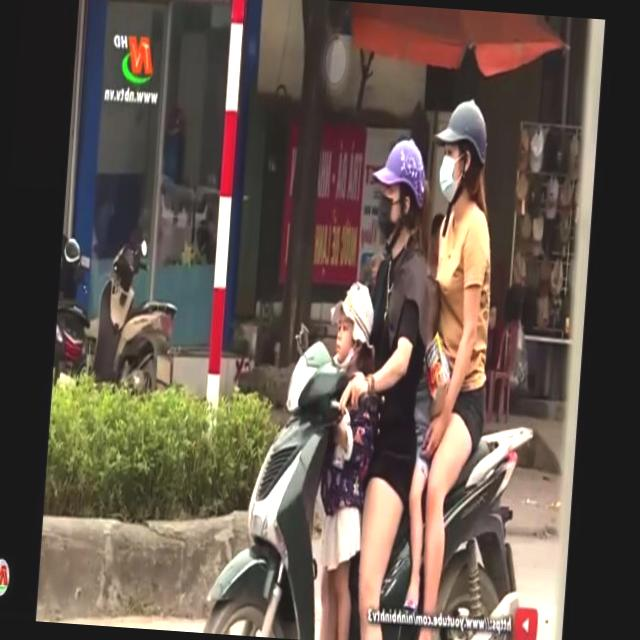motorcycle: (194, 315, 545, 640)
person: (386, 88, 512, 640), (333, 125, 437, 640), (286, 269, 385, 640)
rider_region: (195, 73, 555, 640)
